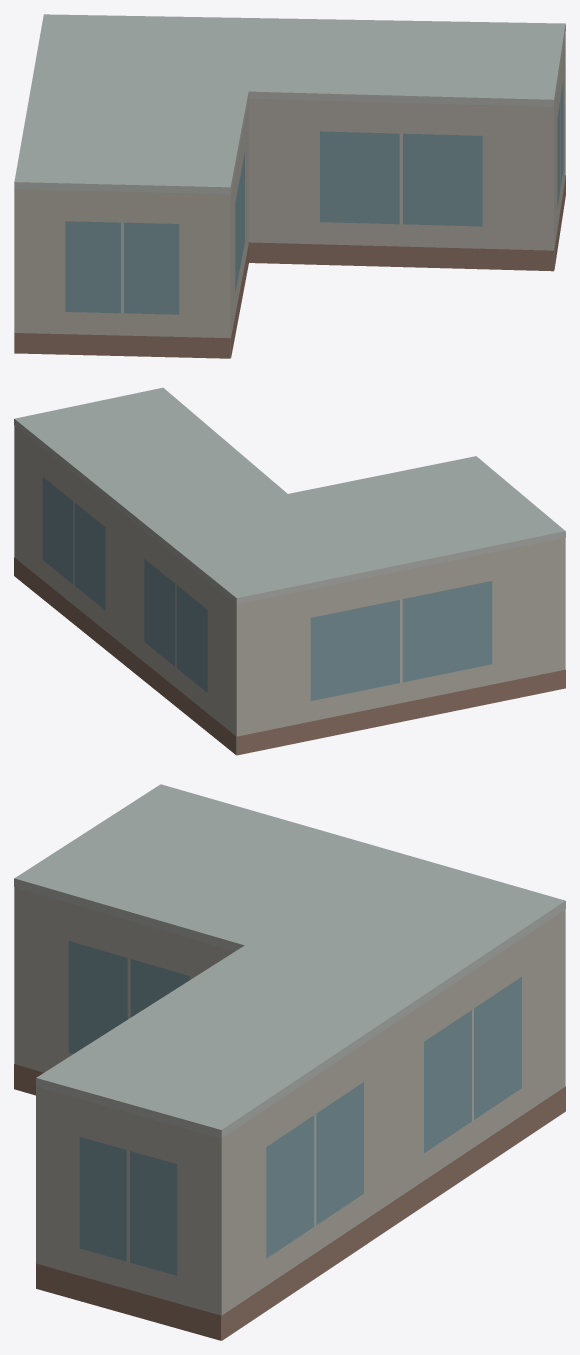
File: survey-upis-32888665.glb
The picture shows the model from 3 angles, top to bottom: view 1: azimuth 30°, elevation 25°; view 2: azimuth 150°, elevation 25°; view 3: azimuth 270°, elevation 25°; orthographic projection. The views are drawn at different scales.
Visible parts, largest first — view 1: survey-upis-32888665.tmp; view 2: survey-upis-32888665.tmp; view 3: survey-upis-32888665.tmp.
Boxes of the visible parts, x1,y1,x2,y2 form: survey-upis-32888665.tmp: (14, 14, 565, 358); survey-upis-32888665.tmp: (14, 387, 565, 755); survey-upis-32888665.tmp: (14, 784, 565, 1340).
Size of the model in its own units: 10.75 by 3.05 by 7.24.
